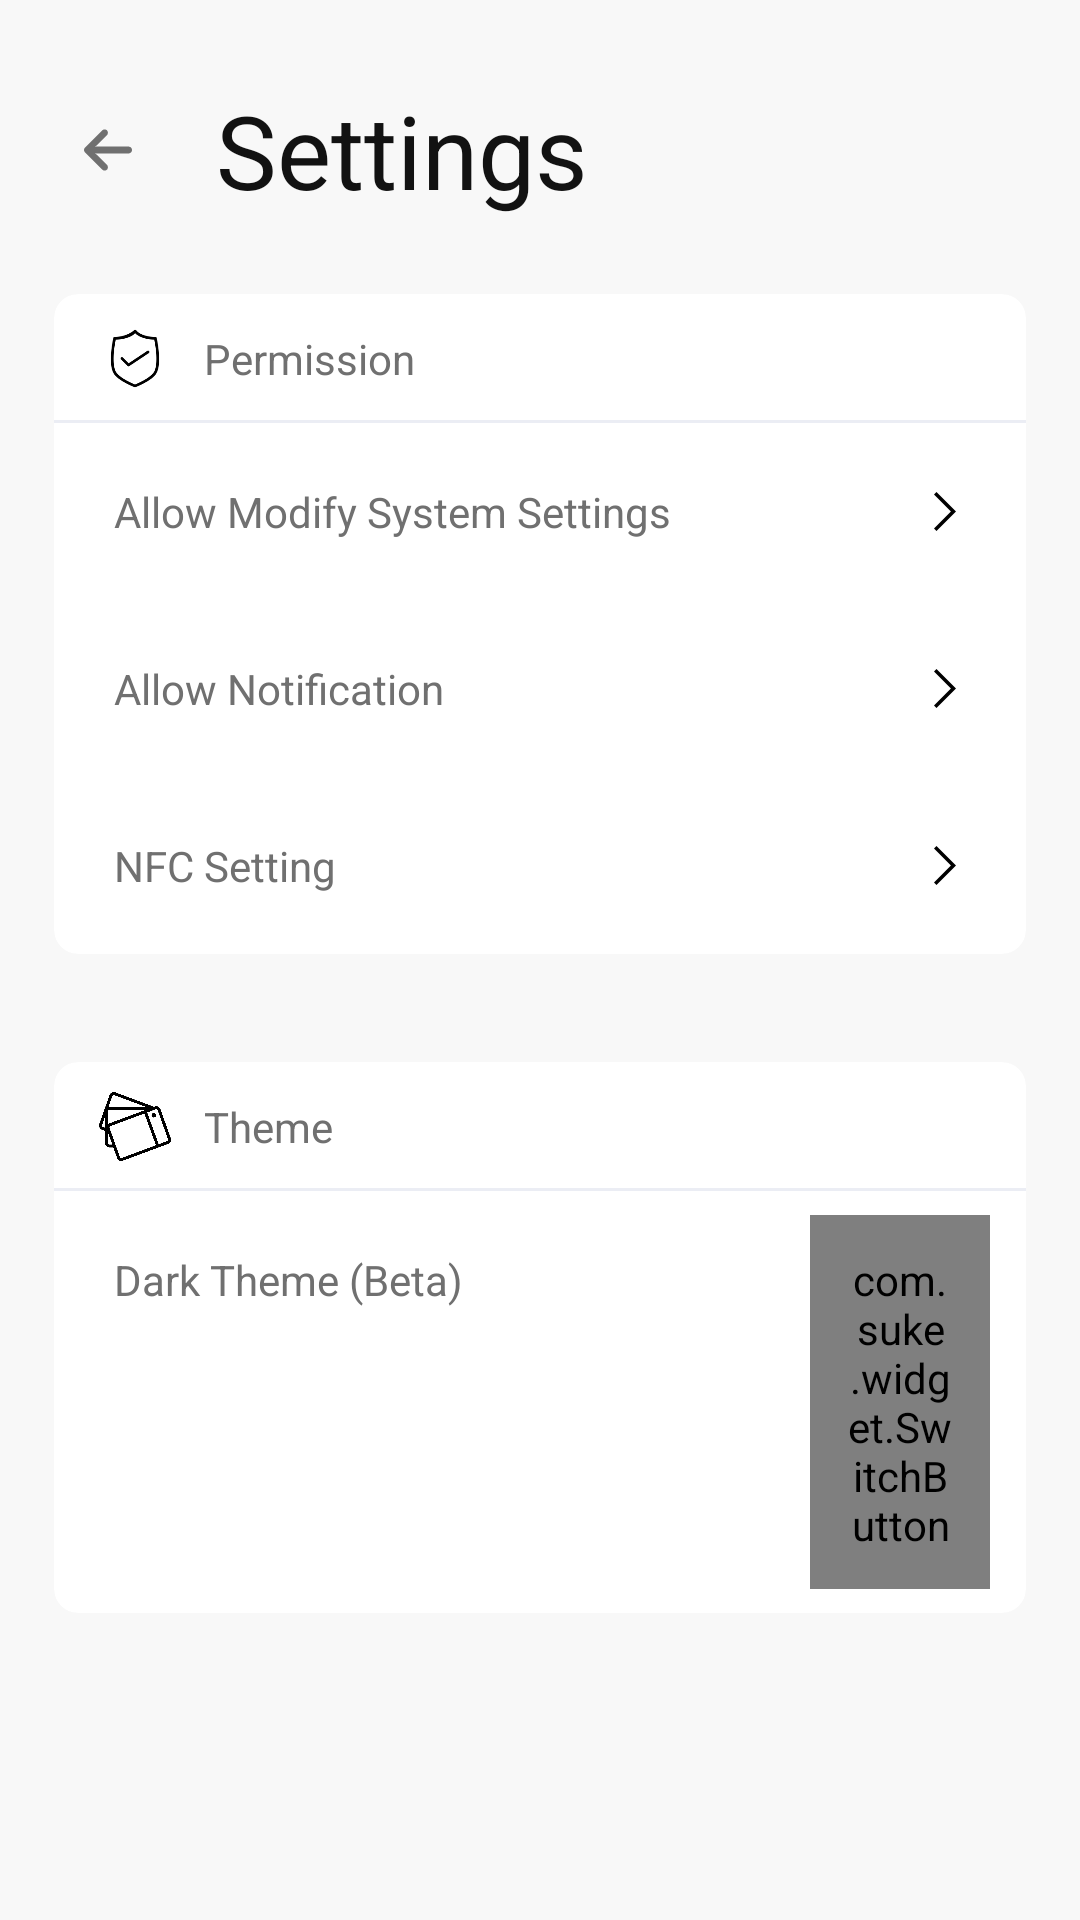

Icons on this 1080w x 1920h Android screen, each with its box as (x1, y1, x2, y2):
Back: (84, 129, 132, 171)
